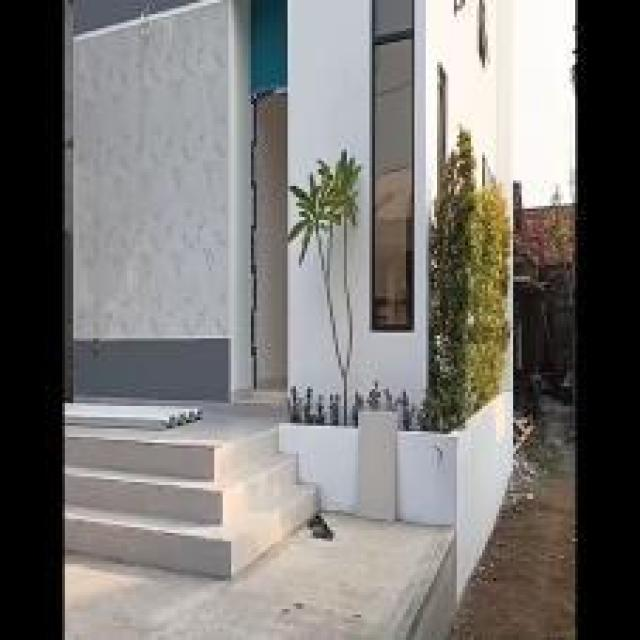upstair: (63, 421, 221, 604)
